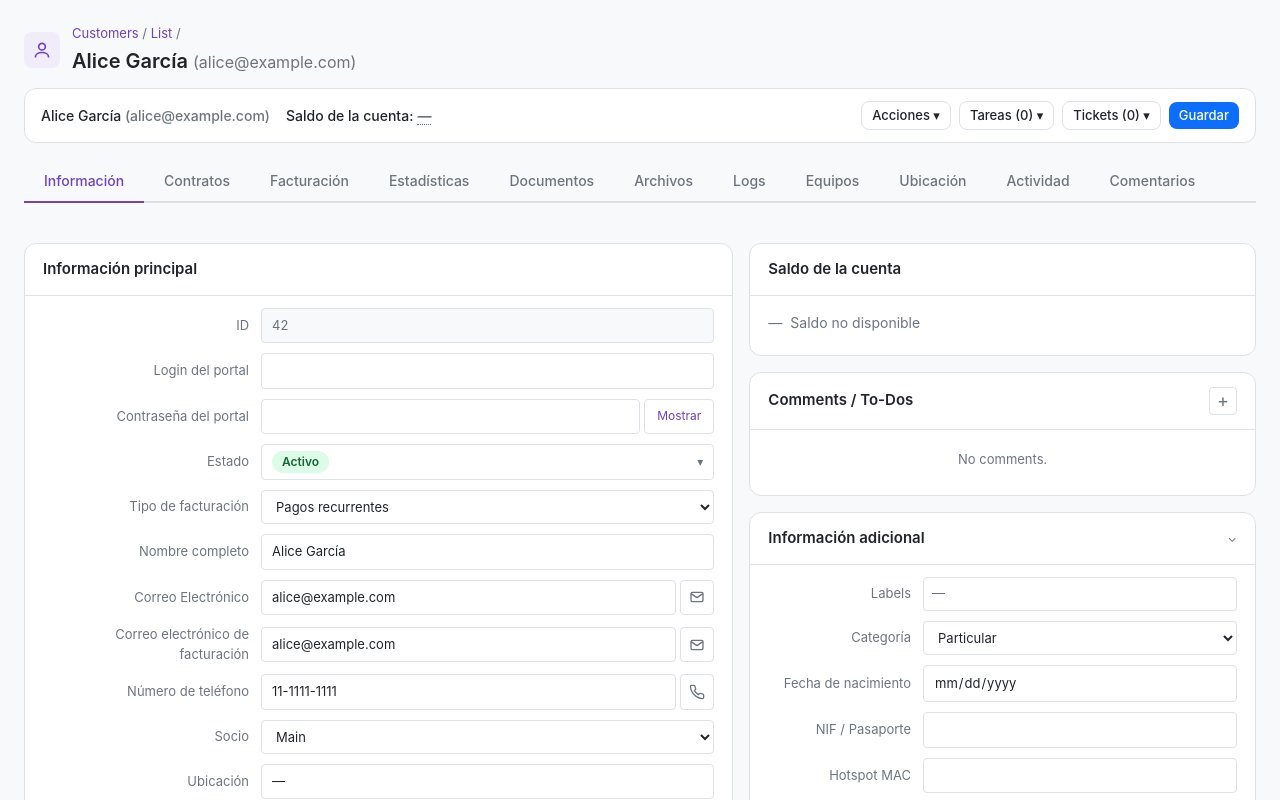
CustomerDetailPage – Acciones dropdown portalizado (Deuda #5) › el dropdown se cierra al clickear el botón Acciones de nuevo (toggle)
This screenshot has width=1280, height=800.
Click the button "Acciones ▾". click: (906, 115)
box: x1=861 y1=100 x2=951 y2=130
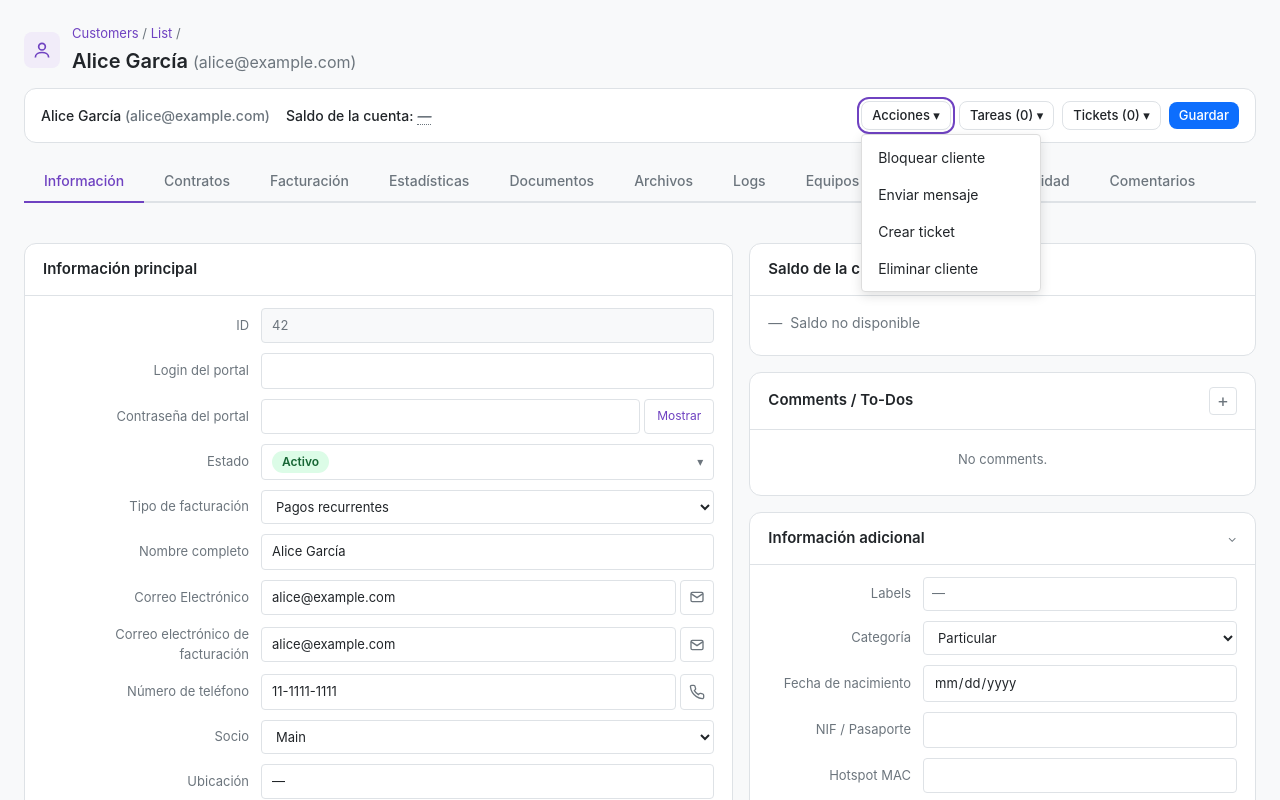
Result: the button "Bloquear cliente" is shown at x1=862 y1=139 x2=1040 y2=176
Click the button "Acciones ▾". click: (906, 115)
box: x1=861 y1=100 x2=951 y2=130
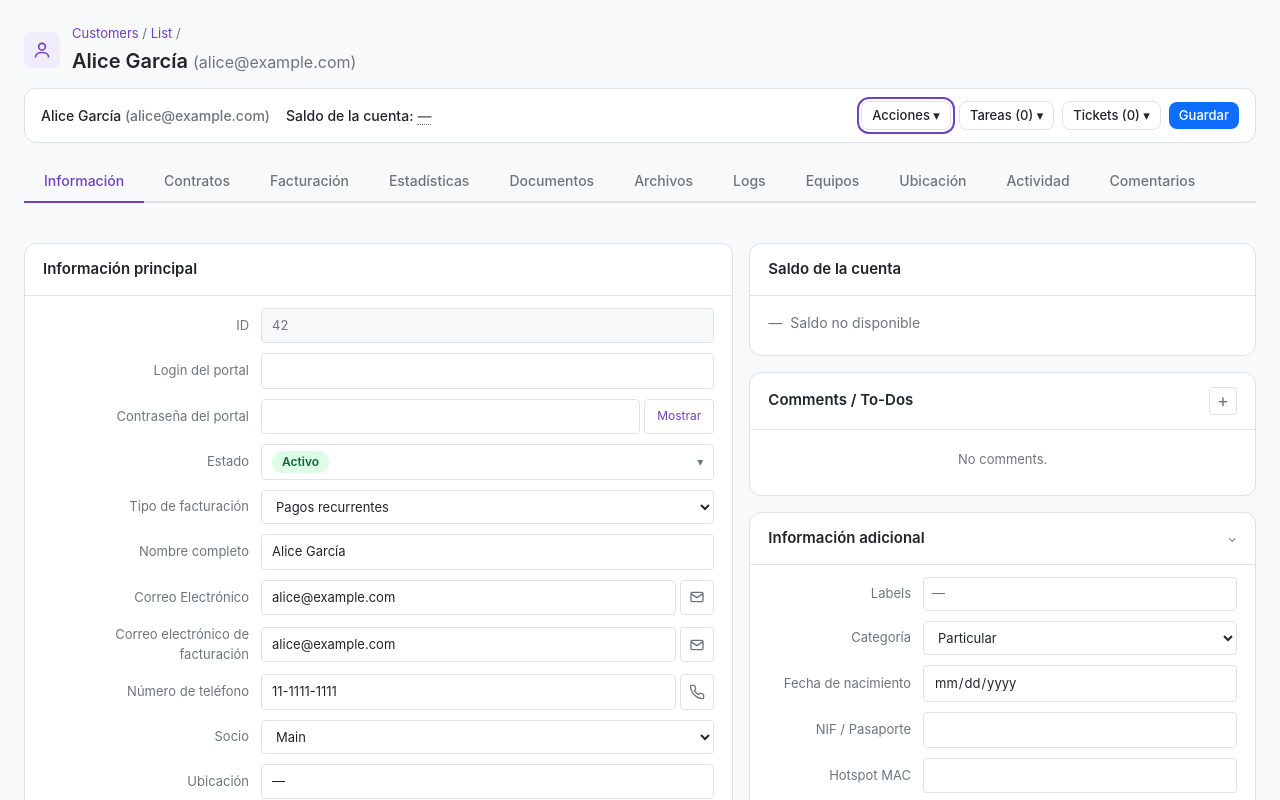
Result: the button "Bloquear cliente" is gone
